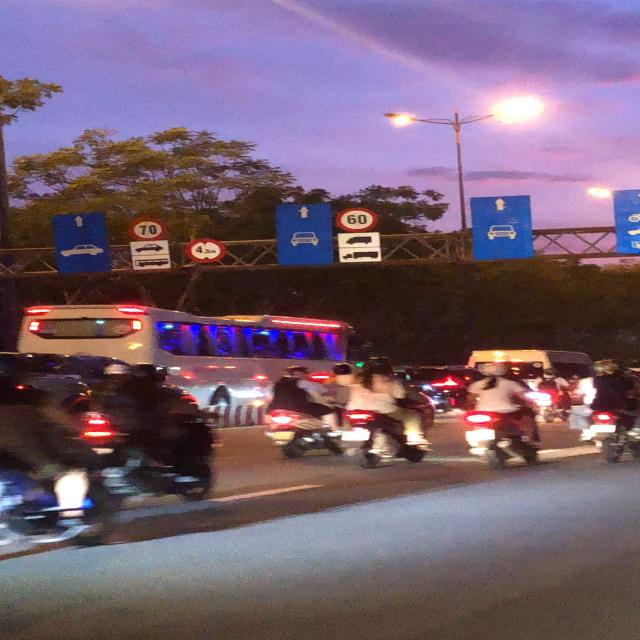Bien bao han che chieu cao: (186, 237, 230, 264)
Bien bao toc do toi da cho phep: (333, 203, 382, 234), (127, 215, 170, 243)
